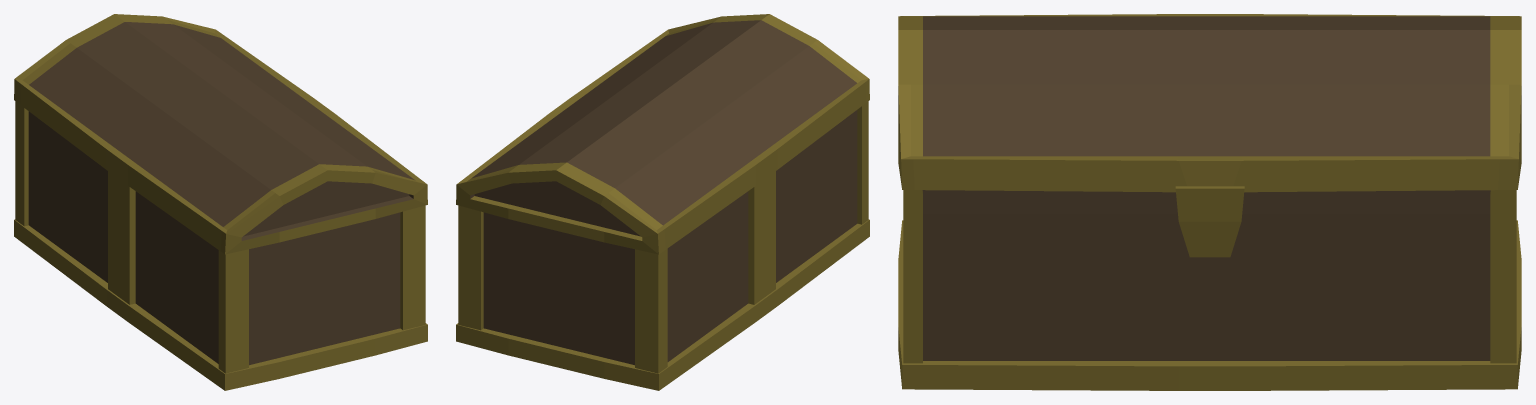
Rendered from bau_dourado.fbx.
3 renders of one model, left to right at view 1: azimuth 30°, elevation 25°; view 2: azimuth 150°, elevation 25°; view 3: azimuth 270°, elevation 25°, orthographic. The views are drawn at different scales.
Parts seen in each view (by area): view 1: Cube; view 2: Cube; view 3: Cube.
Part boxes in pixels (left/top/right/bottom): Cube: left=14, top=14, right=427, bottom=390; Cube: left=456, top=14, right=869, bottom=390; Cube: left=898, top=14, right=1521, bottom=390.
Size of the model in its own units: 184 by 163 by 321.
